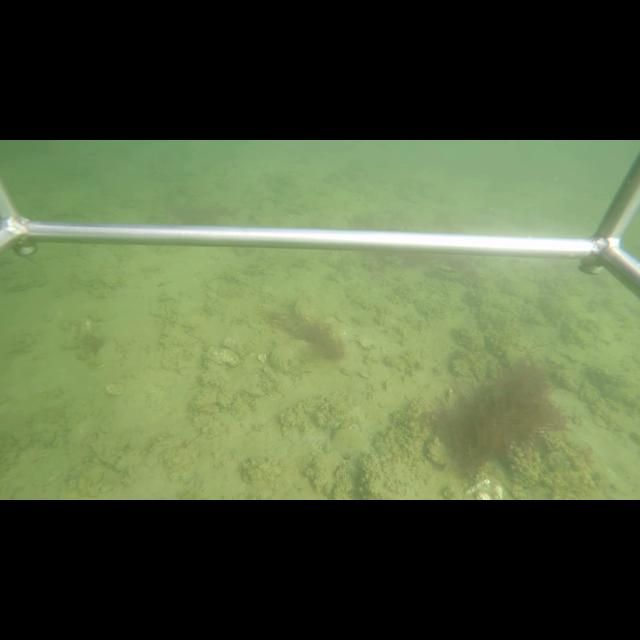Oyster-Closed: (267, 339, 311, 373), (294, 292, 322, 330), (204, 345, 240, 367), (262, 364, 280, 382)
Oyster-Open: (435, 264, 457, 276)
